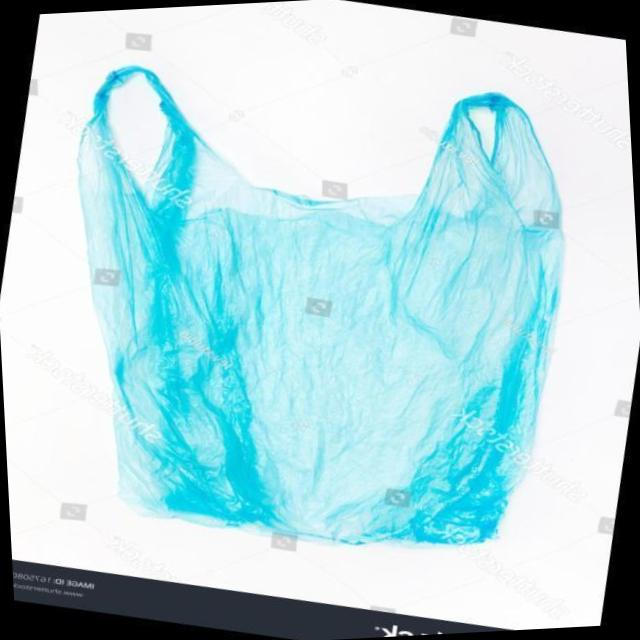KantongPlastik: (71, 41, 584, 564)
